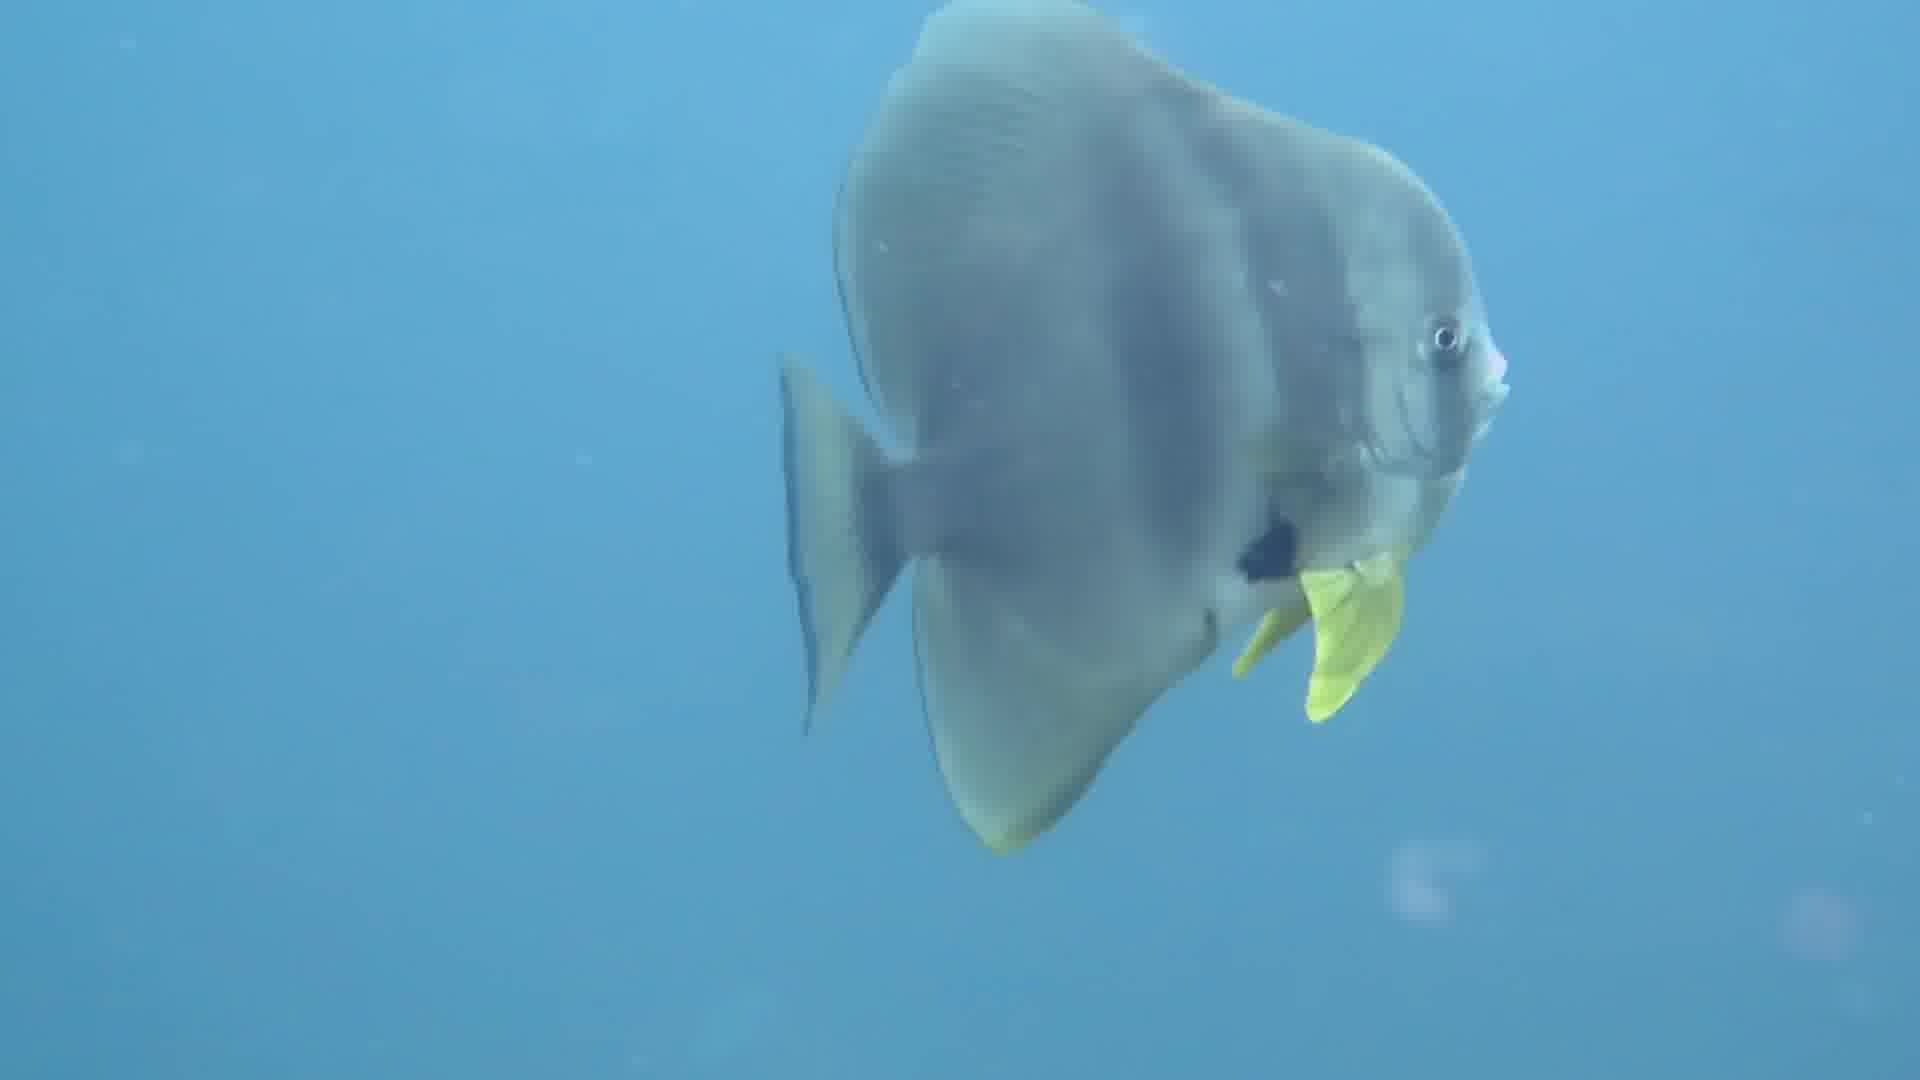Platax teira: (692, 1, 1563, 889)
